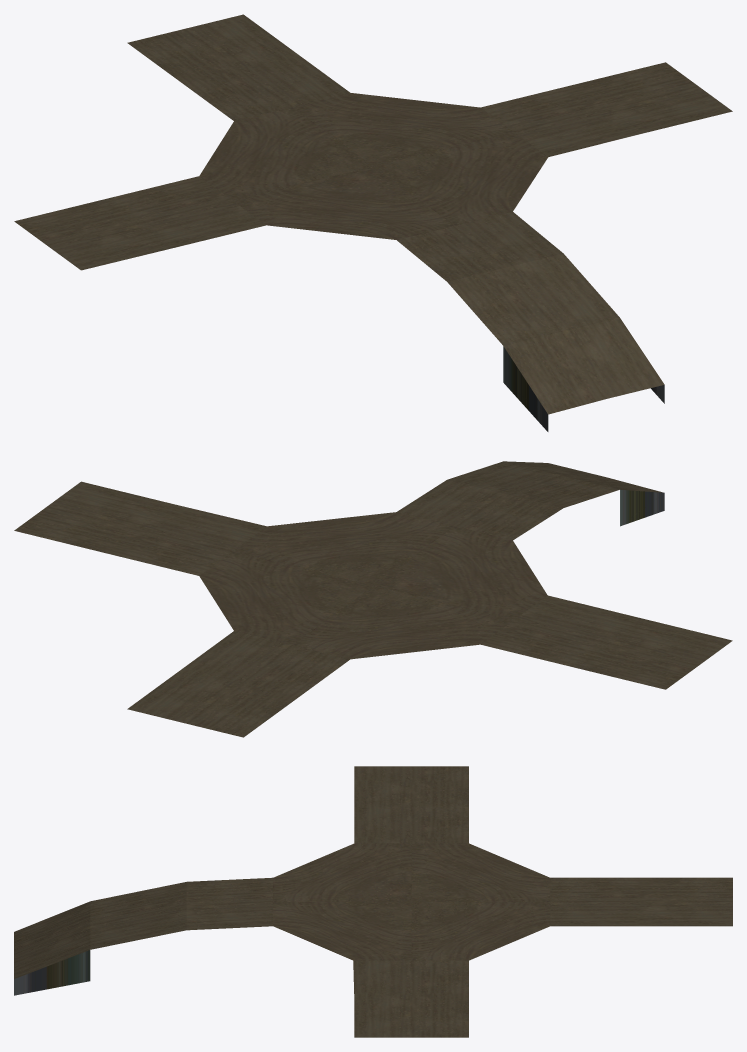
File: terrain_towncenterstone.fbx
The picture shows the model from 3 angles, top to bottom: view 1: azimuth 30°, elevation 25°; view 2: azimuth 150°, elevation 25°; view 3: azimuth 270°, elevation 25°; orthographic projection. The views are drawn at different scales.
Parts seen in each view (by area): view 1: obj2.012; view 2: obj2.012; view 3: obj2.012.
Part boxes in pixels (x1=…): obj2.012: x1=14, y1=14, x2=732, y2=431; obj2.012: x1=14, y1=461, x2=732, y2=737; obj2.012: x1=14, y1=766, x2=732, y2=1037.
Size of the model in its own units: 29.98 by 3.58 by 33.55.
